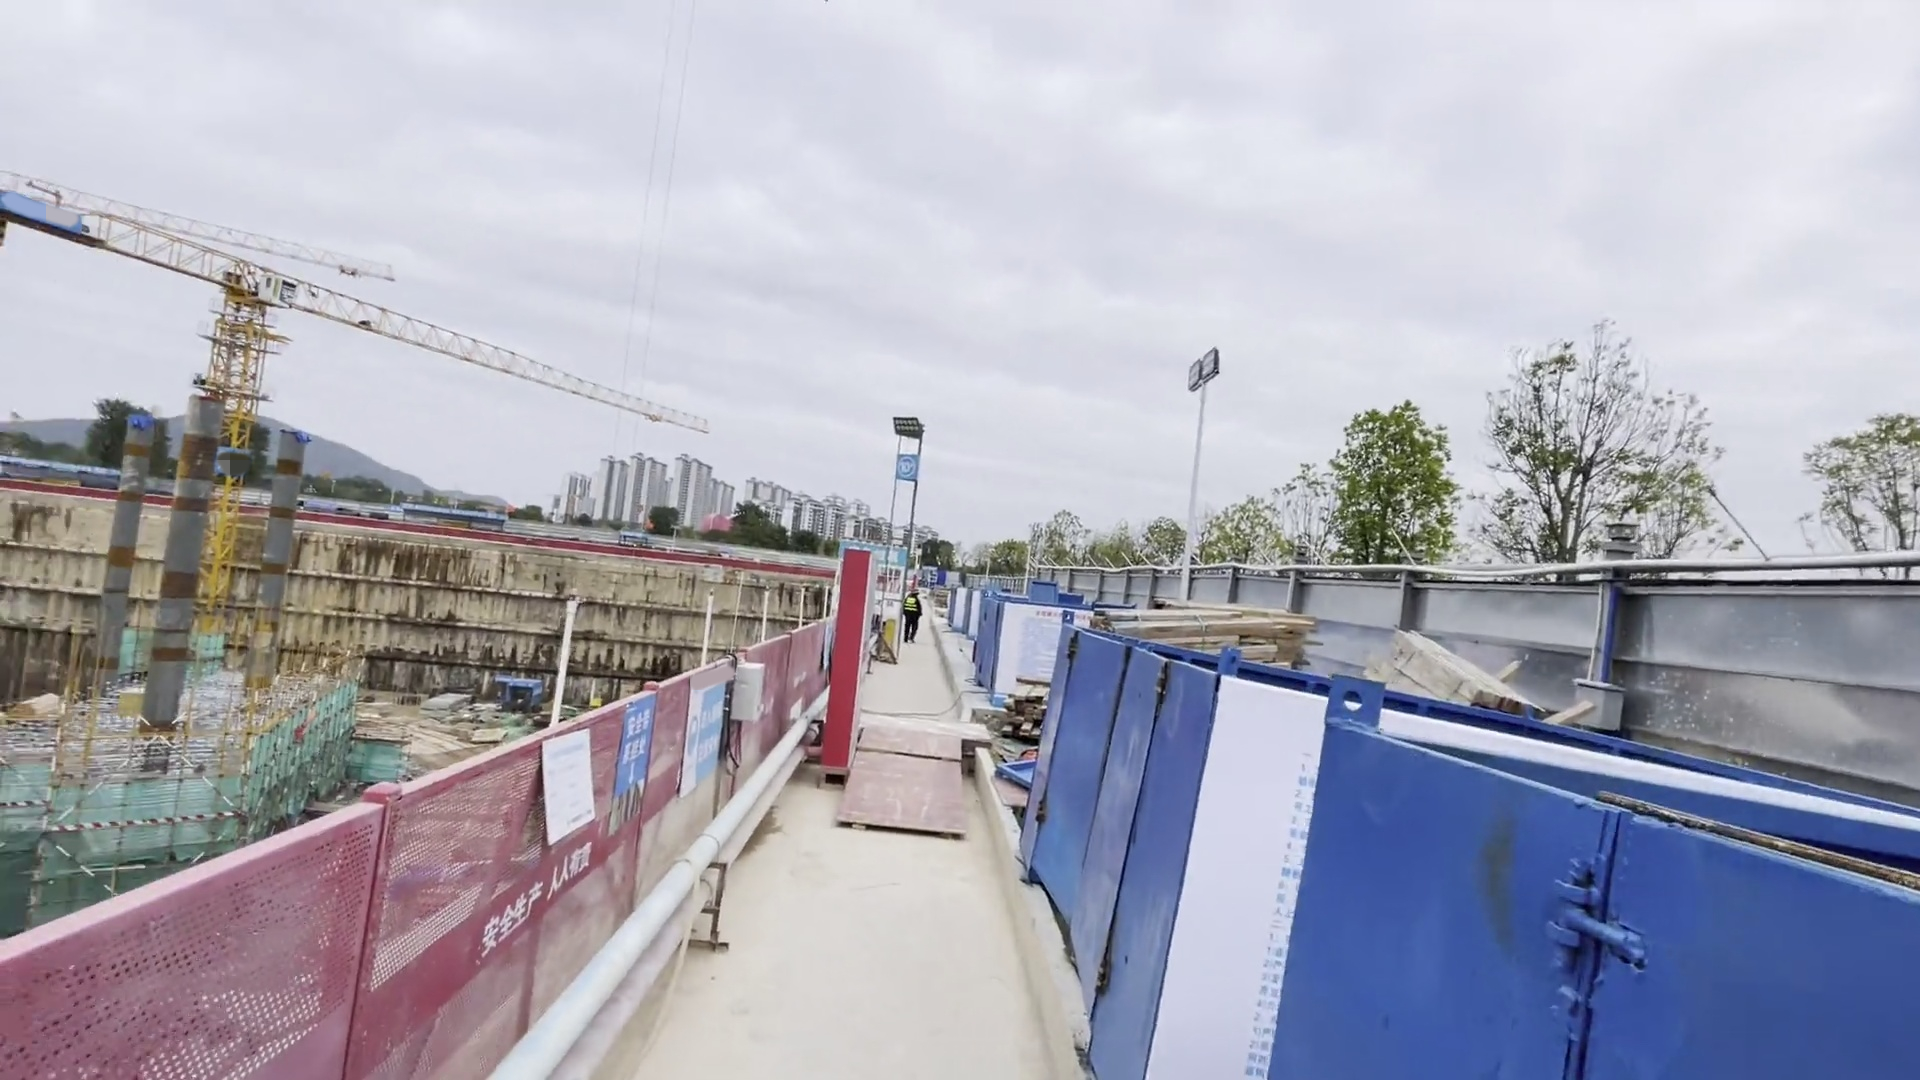fence: (101, 649, 887, 1080)
helmet: (909, 587, 920, 595)
person: (905, 589, 923, 646)
